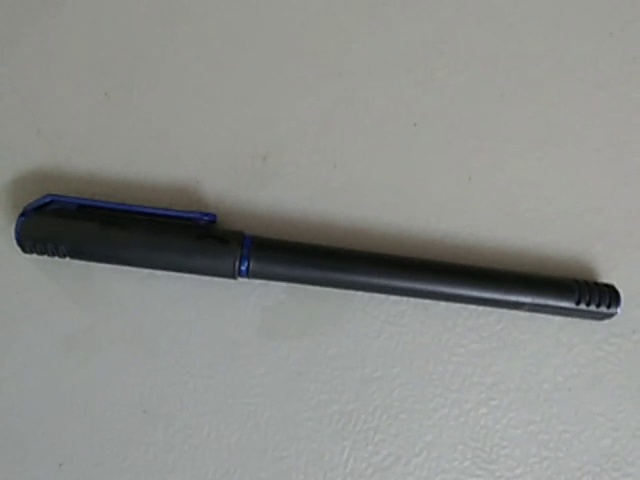Pen: (10, 175, 632, 378)
